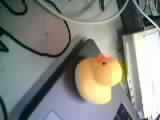duck: (71, 42, 117, 106)
